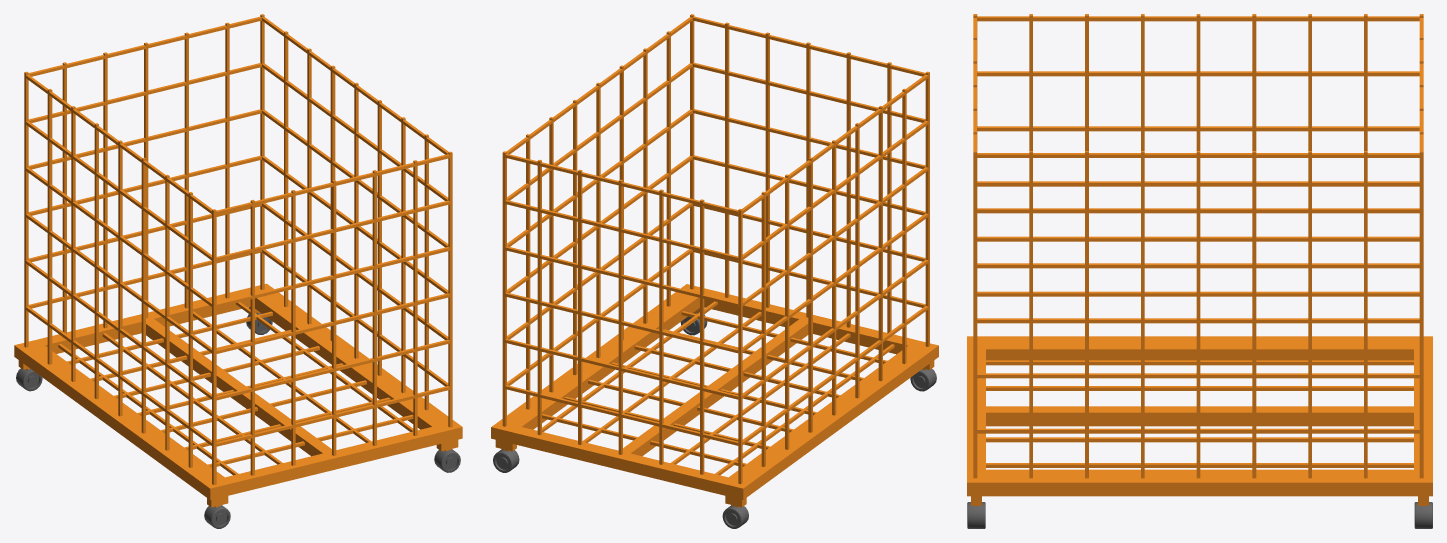
File: sorting-cage.glb
3 renders of one model, left to right at view 1: azimuth 30°, elevation 25°; view 2: azimuth 150°, elevation 25°; view 3: azimuth 270°, elevation 25°, orthographic. The views are drawn at different scales.
Parts seen in each view (by area): view 1: 分拣笼框002; view 2: 分拣笼框002; view 3: 分拣笼框002.
Boxes of the visible parts, bbox=[...] form: 分拣笼框002: bbox=[14, 14, 462, 507]; 分拣笼框002: bbox=[491, 14, 938, 507]; 分拣笼框002: bbox=[967, 14, 1432, 505].
Size of the model in its own units: 0.8302 by 0.9974 by 1.12.
